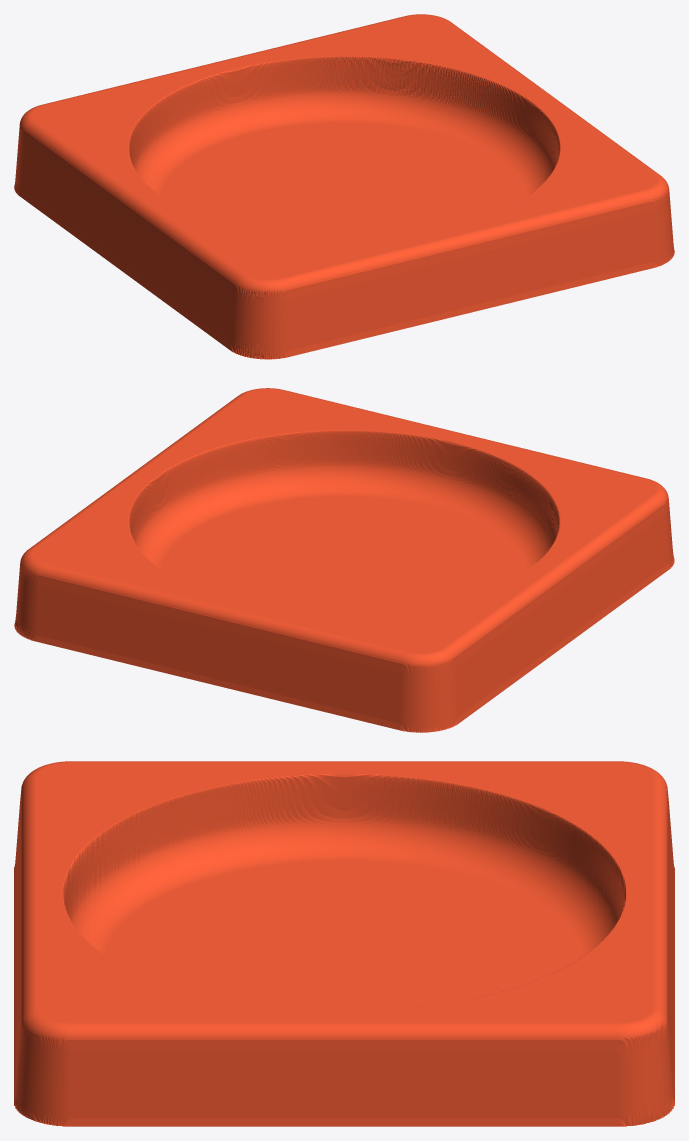
Rendered from mold.glb.
3 views of the same model, one above another, from view 1: azimuth 30°, elevation 25°; view 2: azimuth 150°, elevation 25°; view 3: azimuth 270°, elevation 25° (orthographic). The views are drawn at different scales.
Visible parts, largest first — view 1: geometry_0; view 2: geometry_0; view 3: geometry_0.
Part boxes in pixels (x1,y1,x2,y2): geometry_0: (14, 14, 674, 359); geometry_0: (14, 388, 674, 732); geometry_0: (14, 761, 674, 1126).
Size of the model in its own units: 0.105 by 0.0165 by 0.105.
